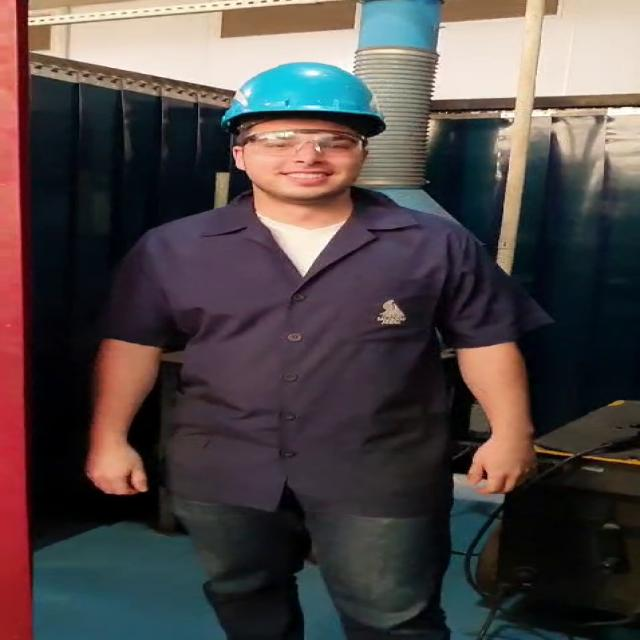oculos-epi: (245, 130, 364, 156)
